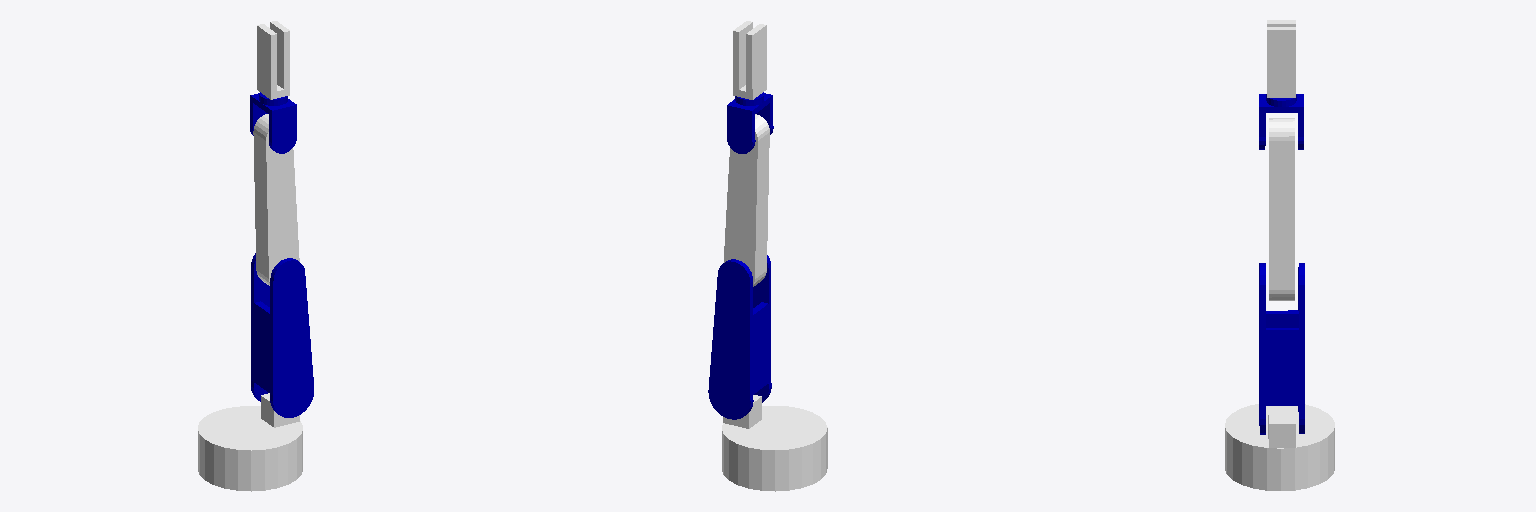
robot.urdf — my_arm:
<?xml version="1.0"?>
<robot name="my_arm">

  <material name="blue">
    <color rgba="0 0 .8 1"/>
  </material>
  <material name="black">
    <color rgba="0 0 0 1"/>
  </material>
  <material name="white">
    <color rgba="1 1 1 1"/>
  </material>

  <link name="world"/>

  <link name="base">
    <visual>
      <origin xyz="0 0 0" rpy="0 0 0"/>
      <geometry>
        <mesh filename="package://my_arm/meshes/1.stl" scale="0.001 0.001 0.001"/>
      </geometry>
      <material name ="white"/>
    </visual>
    <collision>
      <origin xyz="0 0 0" rpy="0 0 0"/>
      <geometry>
        <mesh filename="package://my_arm/meshes/1.stl" scale="0.001 0.001 0.001"/>
      </geometry>
    </collision>
    <inertial>
      <origin rpy="0 0 0" xyz="0.004190989 0.00646279 0.063222557"/>
      <mass value="1"/>
    <inertia ixx="0.0125" ixy="0" ixz="0" iyy="0.009" iyz="0" izz="0.009"/>
    </inertial>
  </link>

  <link name="elbow_link">
    <visual>
      <origin xyz="-0.062 -0.051 0.014" rpy="0 0 0"/>
      <geometry>
        <mesh filename="package://my_arm/meshes/2.stl" scale="0.001 0.001 0.001"/>
      </geometry>
      <material name ="blue"/>
    </visual>
    <collision>
      <origin xyz="-0.062 -0.051 0.014" rpy="0 0 0"/>
      <geometry>
        <mesh filename="package://my_arm/meshes/2.stl" scale="0.001 0.001 0.001"/>
      </geometry>
    </collision>
    <inertial>
      <origin rpy="0 0 0" xyz="0.052649582 0.057137184 0.133373611"/>
      <mass value="1"/>
    <inertia ixx="0.029" ixy="0" ixz="0" iyy="0.03198" iyz="0" izz="0.220"/>
    </inertial>
  </link>

  <link name="wrist_link">
    <visual>
      <origin xyz="-0.001 -0.064 0" rpy="0 0 0"/>
      <geometry>
        <mesh filename="package://my_arm/meshes/3.stl" scale="0.001 0.001 0.001"/>
      </geometry>
      <material name ="white"/>
    </visual>
    <collision>
      <origin xyz="-0.001 -0.064 0" rpy="0 0 0"/>
      <geometry>
        <mesh filename="package://my_arm/meshes/3.stl" scale="0.001 0.001 0.001"/>
      </geometry>
    </collision>
    <inertial>
      <origin rpy="0 0 0" xyz="-0.008036790 0.031757582 0.188686127"/>
      <mass value="1"/>
    <inertia ixx="0.015" ixy="0" ixz="0" iyy="0.238481" iyz="0" izz="0.245072"/>
    </inertial>
  </link>

  <link name="hand_link">
    <visual>
      <origin xyz="-0.037 -0.001 0.092" rpy="0 0 0"/>
      <geometry>
        <mesh filename="package://my_arm/meshes/4.stl" scale="0.001 0.001 0.001"/>
      </geometry>
      <material name ="blue"/>
    </visual>
    <collision>
      <origin xyz="-0.037 -0.001 0.092" rpy="0 0 0"/>
      <geometry>
        <mesh filename="package://my_arm/meshes/4.stl" scale="0.001 0.001 0.001"/>
      </geometry>
    </collision>
    <inertial>
      <origin rpy="0 0 0" xyz="0.028896175 0.036595043 0.087612099"/>
      <mass value="1"/>
    <inertia ixx="0.01901" ixy="0" ixz="0" iyy="0.03497" iyz="0" izz="0.028442"/>
    </inertial>
  </link>

  <link name="gripper_link">
    <visual>
      <origin xyz="-0.03 -0.037 0" rpy="0 0 0"/>
      <geometry>
        <mesh filename="package://my_arm/meshes/5.stl" scale="0.001 0.001 0.001"/>
      </geometry>
      <material name ="white"/>
    </visual>
    <collision>
      <origin xyz="-0.03 -0.037 0" rpy="0 0 0"/>
      <geometry>
        <mesh filename="package://my_arm/meshes/5.stl" scale="0.001 0.001 0.001"/>
      </geometry>
    </collision>
    <inertial>
      <origin rpy="0 0 0" xyz="0.028896175 0.036595043 0.087612099"/>
      <mass value="1"/>
    <inertia ixx="0.008693" ixy="0" ixz="0" iyy="0.039554" iyz="0" izz="0.037589"/>
    </inertial>
  </link>

  <joint name="base2base_joint" type="continuous">
    <parent link="world" />
    <child link="base" />
    <origin xyz="0.137 0.137 0" rpy="0 0 0" />
    <axis xyz="0 0 1" />
  </joint>

  <joint name="base_joint" type="revolute">
    <parent link="base" />
    <child link="elbow_link" />
    <limit effort="30" velocity="1.0" lower="-1.570795" upper="1.570795" />
    <origin xyz="0.101 0 0.207" rpy="0 0 0" />
    <axis xyz="0 1 0" />
  </joint>

  <joint name="elbow_joint" type="revolute">
    <parent link="elbow_link" />
    <child link="wrist_link" />
    <limit effort="30" velocity="1.0" lower="-1.570795" upper="1.570795" />
    <origin xyz="-0.014 0.037 0.341" rpy="0 0 0" />
    <axis xyz="0 1 0" />
  </joint>

  <joint name="wrist_joint" type="revolute">
    <parent link="wrist_link" />
    <child link="hand_link" />
    <limit effort="30" velocity="1.0" lower="-1.570795" upper="1.570795" />
    <origin xyz="-0.015 -0.088 0.398" rpy="0 0 0" />
    <axis xyz="0 1 0" />
  </joint>

  <joint name="hand_joint" type="continuous">
    <parent link="hand_link" />
    <child link="gripper_link" />
    <limit effort="30" velocity="1.0" lower="-1.570795" upper="1.570795" />
    <origin xyz="0.0 0.056 0.113" rpy="0 0 0" />
    <axis xyz="0 0 1" />
  </joint>


  <transmission name="tran1">
    <type>transmission_interface/SimpleTransmission</type>
    <joint name="base2base_joint">
      <hardwareInterface>hardware_interface/PositionJointInterface</hardwareInterface>
    </joint>
    <actuator name="motor1">
      <mechanicalReduction>1</mechanicalReduction>
    </actuator>
  </transmission>

  <transmission name="tran2">
    <type>transmission_interface/SimpleTransmission</type>
    <joint name="base_joint">
      <hardwareInterface>hardware_interface/PositionJointInterface</hardwareInterface>
    </joint>
    <actuator name="motor2">
      <mechanicalReduction>1</mechanicalReduction>
    </actuator>
  </transmission>

  <transmission name="tran3">
    <type>transmission_interface/SimpleTransmission</type>
    <joint name="elbow_joint">
      <hardwareInterface>hardware_interface/PositionJointInterface</hardwareInterface>
    </joint>
    <actuator name="motor3">
      <mechanicalReduction>1</mechanicalReduction>
    </actuator>
  </transmission>

  <transmission name="tran4">
    <type>transmission_interface/SimpleTransmission</type>
    <joint name="wrist_joint">
      <hardwareInterface>hardware_interface/PositionJointInterface</hardwareInterface>
    </joint>
    <actuator name="motor4">
      <mechanicalReduction>1</mechanicalReduction>
    </actuator>
  </transmission>

  <transmission name="tran5">
    <type>transmission_interface/SimpleTransmission</type>
    <joint name="hand_joint">
      <hardwareInterface>hardware_interface/PositionJointInterface</hardwareInterface>
    </joint>
    <actuator name="motor5">
      <mechanicalReduction>1</mechanicalReduction>
    </actuator>
  </transmission>


<gazebo>
  <plugin name="gazebo_ros_control" filename="libgazebo_ros_control.so">
  </plugin>
</gazebo>

</robot>

--- Render facts (derived) ---
Views: 3 orthographic renders of the robot side by side, from view 1: azimuth 30°, elevation 25°; view 2: azimuth 150°, elevation 25°; view 3: azimuth 270°, elevation 25°.
Model my_arm with 6 links and 5 joints (3 revolute, 2 continuous), rooted at world, posed every joint at zero.
Links seen in each view (by area): view 1: elbow_link, base, wrist_link, gripper_link, hand_link; view 2: elbow_link, base, wrist_link, gripper_link, hand_link; view 3: base, elbow_link, wrist_link, gripper_link, hand_link.
Boxes of the visible links, left/top/right/bottom form: elbow_link: left=251, top=253, right=313, bottom=417; base: left=198, top=393, right=302, bottom=491; wrist_link: left=253, top=114, right=299, bottom=285; gripper_link: left=257, top=21, right=289, bottom=99; hand_link: left=250, top=92, right=296, bottom=153; elbow_link: left=708, top=255, right=771, bottom=419; base: left=722, top=395, right=827, bottom=491; wrist_link: left=724, top=114, right=769, bottom=286; gripper_link: left=733, top=21, right=766, bottom=99; hand_link: left=727, top=92, right=773, bottom=153; base: left=1225, top=404, right=1334, bottom=490; elbow_link: left=1259, top=263, right=1304, bottom=434; wrist_link: left=1269, top=118, right=1294, bottom=300; gripper_link: left=1267, top=20, right=1295, bottom=97; hand_link: left=1259, top=94, right=1303, bottom=149.
Size in the robot's own frame: 0.3003 by 0.2742 by 1.24 metres.
Meshes: 5 distinct files referenced, 5 mesh visuals loaded (5 binary STL).